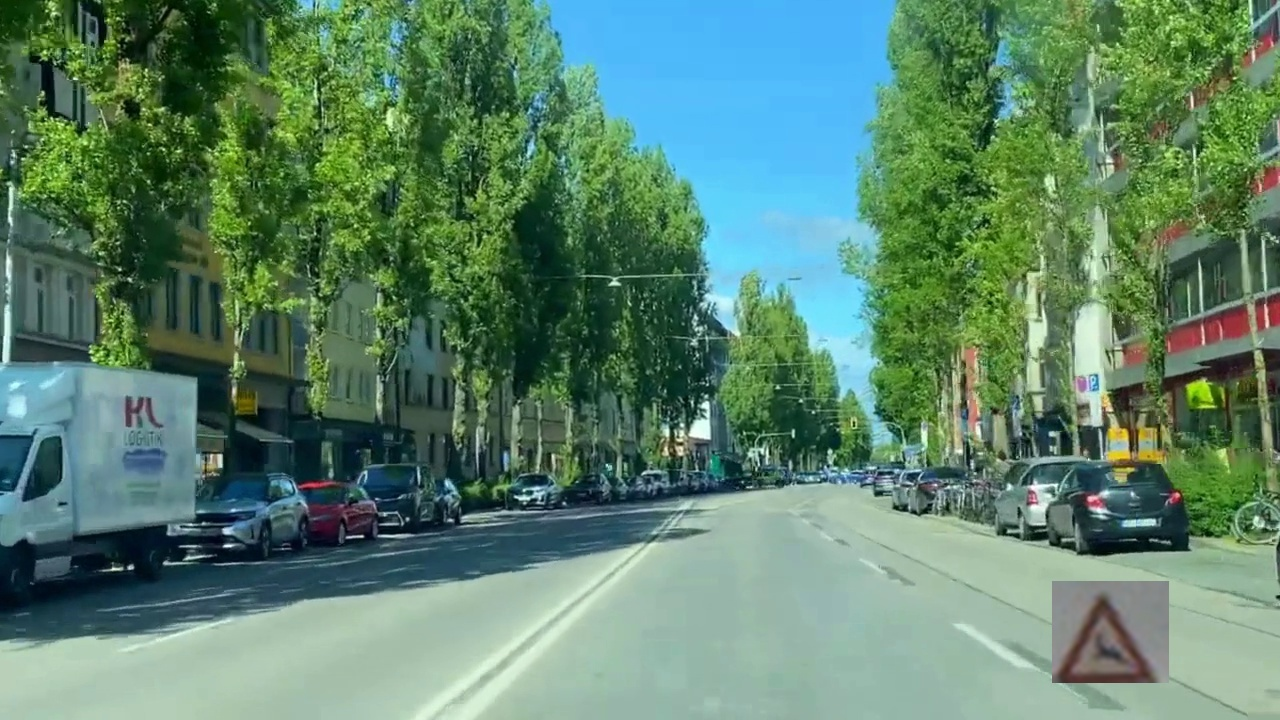Wild animals: (1052, 581, 1169, 683)
